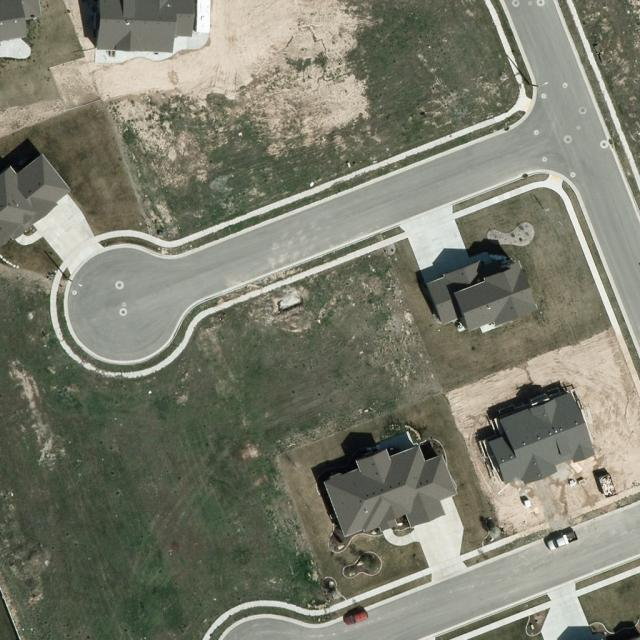vehicle: (544, 530, 580, 552), (343, 610, 369, 626)
